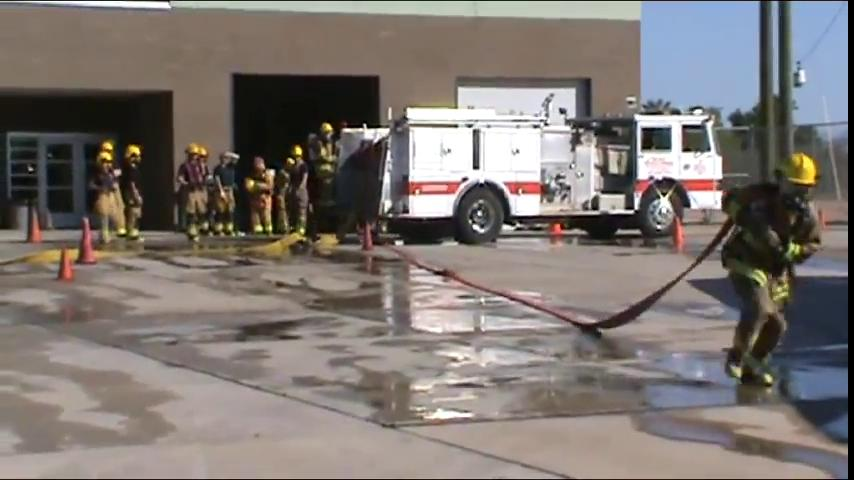victim: (712, 149, 829, 391), (92, 134, 131, 244), (176, 138, 215, 241), (239, 146, 276, 244), (115, 141, 146, 246), (309, 121, 344, 211), (285, 138, 316, 238), (210, 144, 240, 237)
